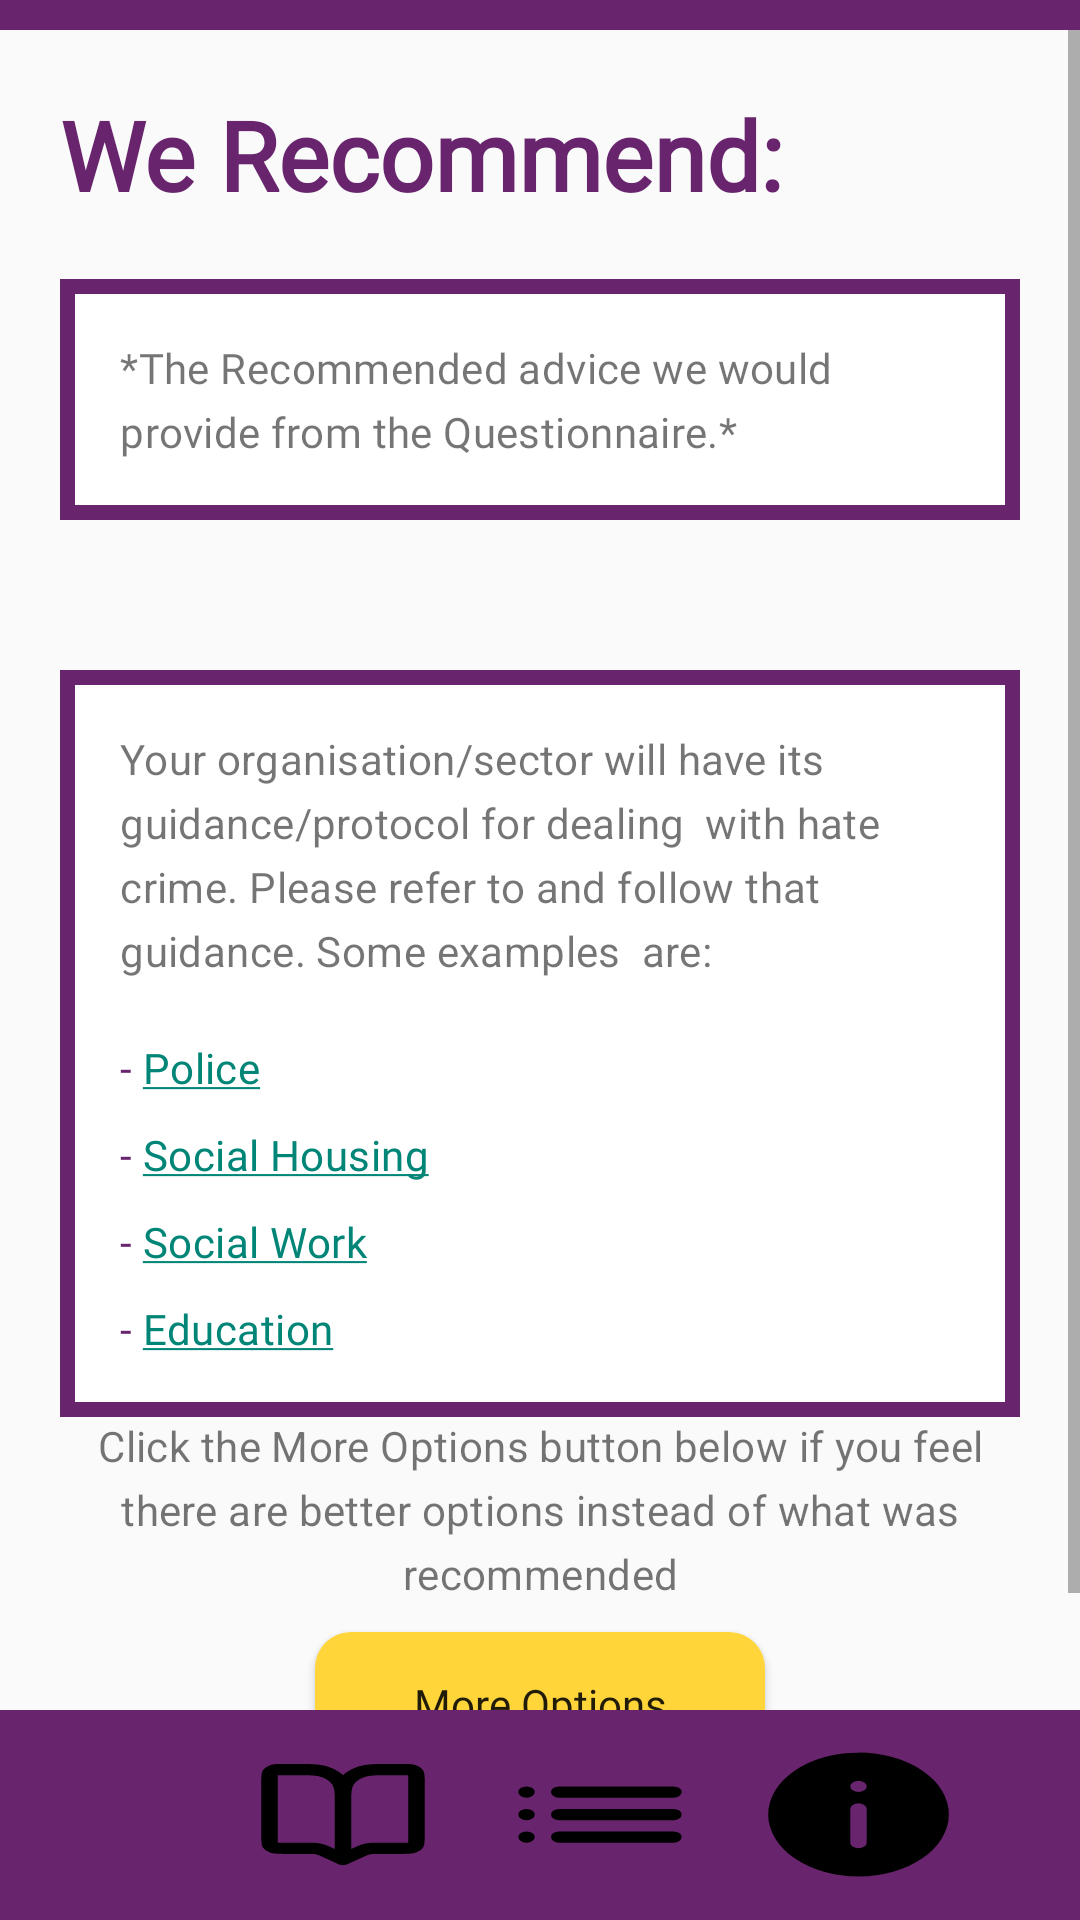

Screen size 1080px x 1920px. Icon name, then its center in pixels as (x,y):
book open: (343,1814)
list ul: (600,1814)
